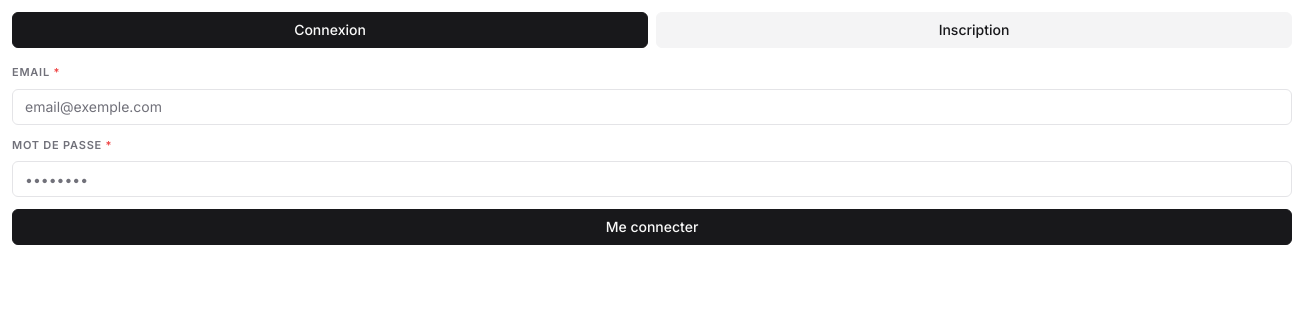
Scenario: AuthForm › should show error message on login failure
Type "wrong@example.com" into the field with placeholder "email@exemple.com".
click(652, 106); type("wrong@example.com")  # box [12,88,1292,124]
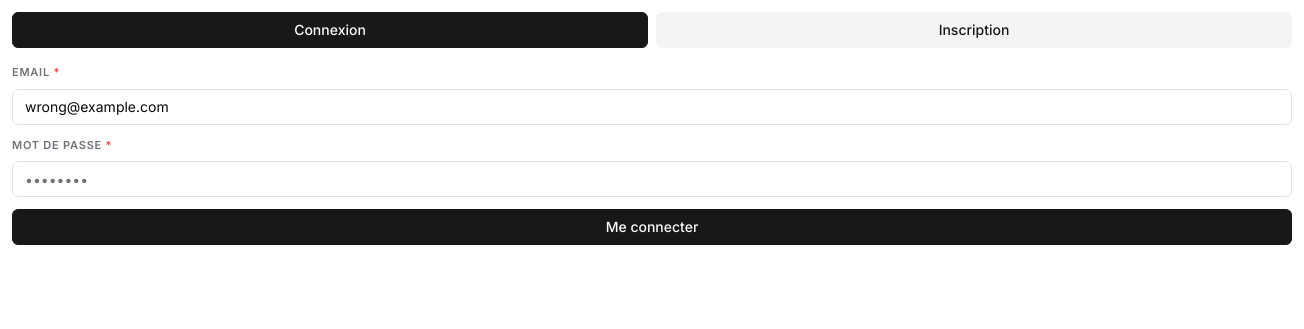
Type "wrongpassword" into the password field with placeholder "••••••••".
click(652, 179); type("wrongpassword")  # box [12,161,1292,197]
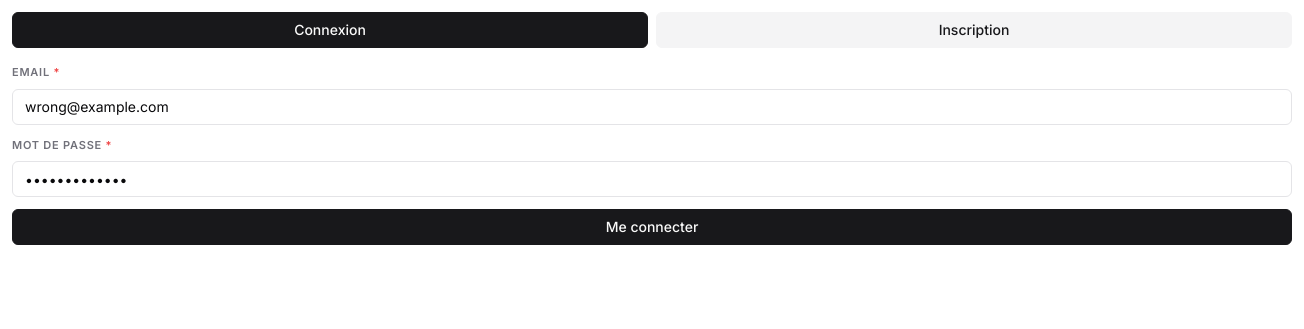
Click the button "Me connecter".
click(652, 227)  # box [12,209,1292,245]
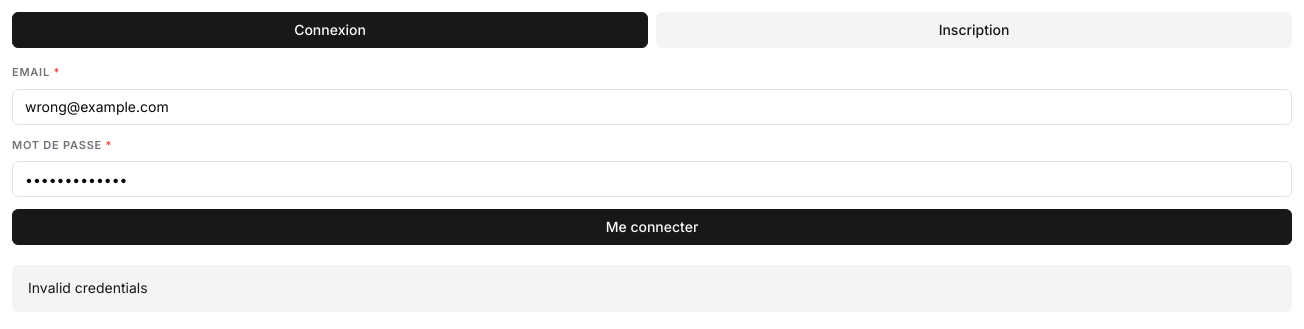
Expected: the text "Invalid credentials" is shown, [12,265,1292,312]
